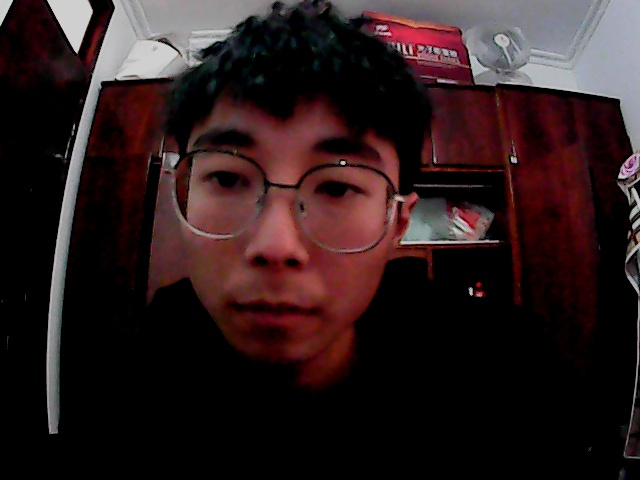face: (144, 9, 435, 385)
